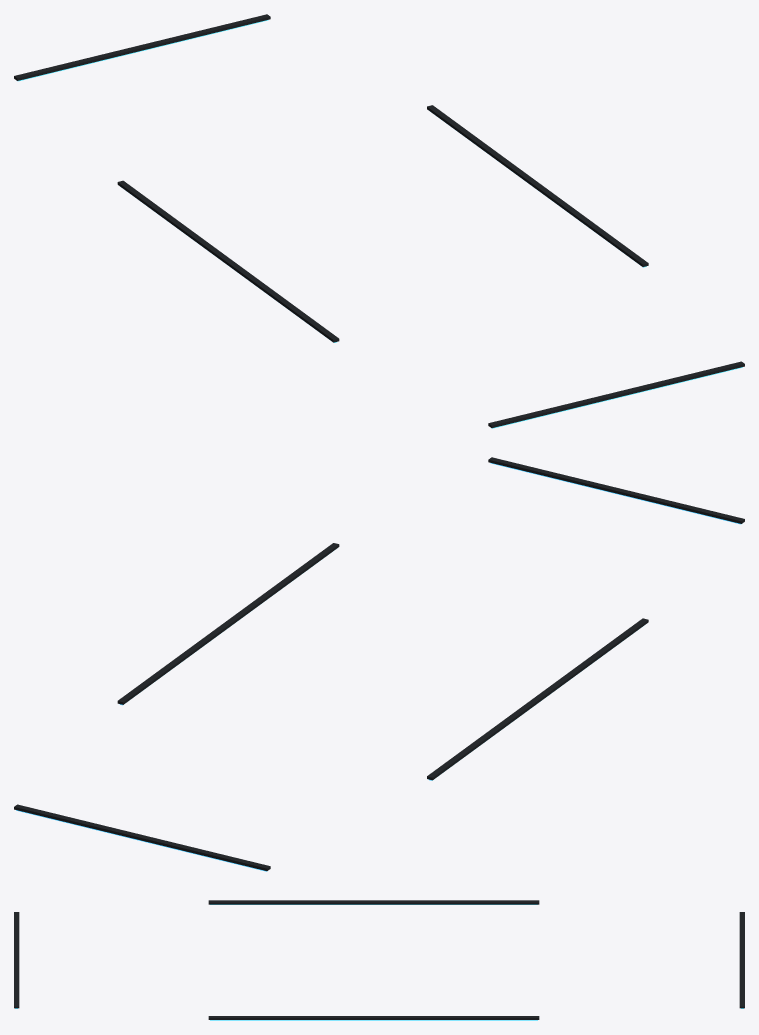
Rendered from vortex_r.glb.
The picture shows the model from 3 angles, top to bottom: view 1: azimuth 30°, elevation 25°; view 2: azimuth 150°, elevation 25°; view 3: azimuth 270°, elevation 25°; orthographic projection. The views are drawn at different scales.
Parts seen in each view (by area): view 1: model; view 2: model; view 3: model.
Boxes of the visible parts, left/top/right/bottom form: model: left=14, top=14, right=744, bottom=428; model: left=14, top=457, right=744, bottom=871; model: left=14, top=900, right=744, bottom=1020.
Size of the model in its own units: 1.51 by 0.0179 by 3.96.
Materials: 2 (1 with a texture image).
